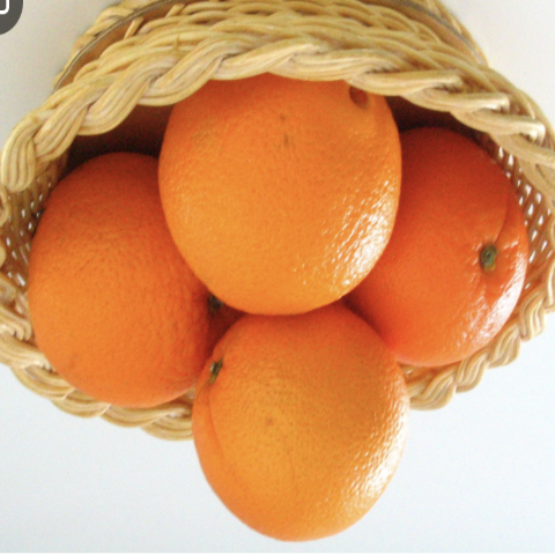orange: (151, 36, 419, 342), (2, 159, 236, 415), (178, 322, 409, 555), (335, 163, 548, 378)
